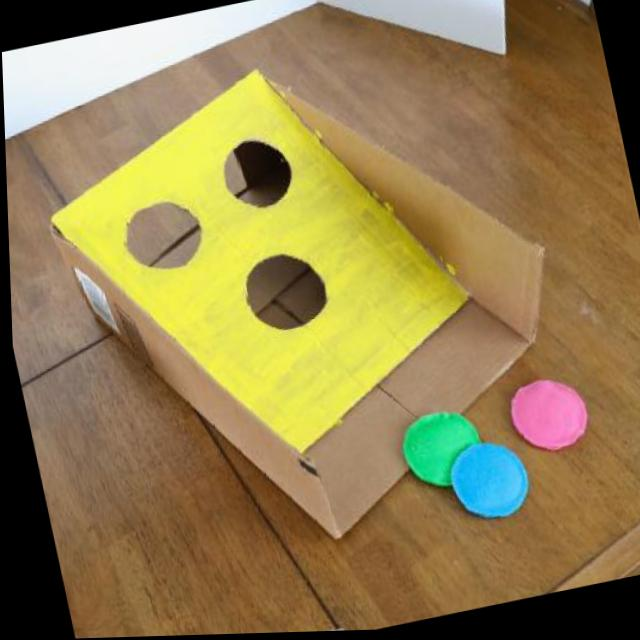box: (11, 15, 621, 633)
